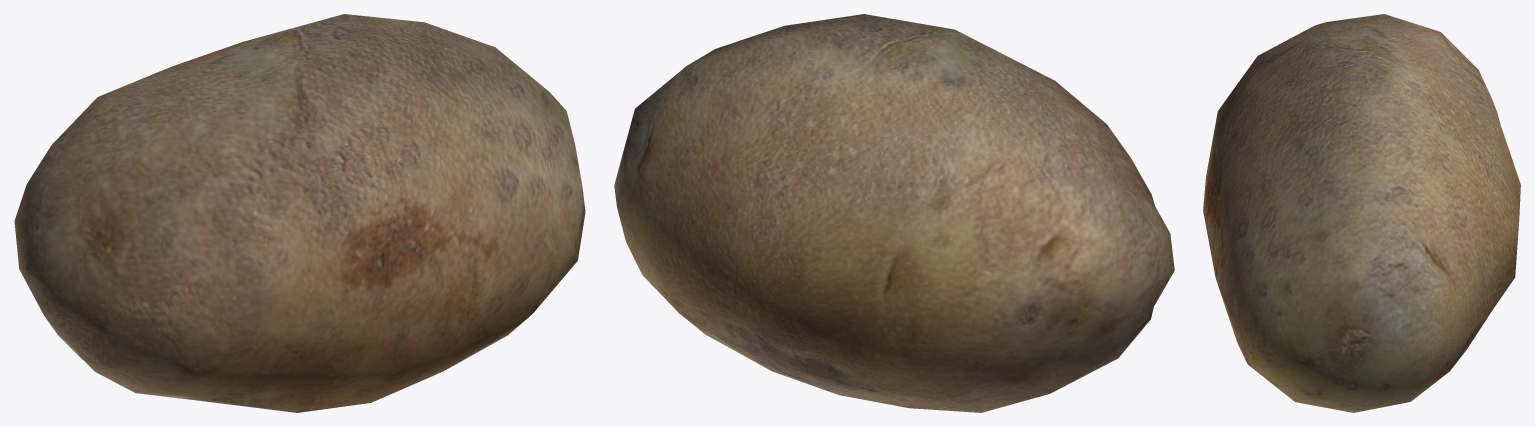
File: A23_Potato_low.fbx
The picture shows the model from 3 angles, left to right: view 1: azimuth 30°, elevation 25°; view 2: azimuth 150°, elevation 25°; view 3: azimuth 270°, elevation 25°; orthographic projection. The views are drawn at different scales.
Parts seen in each view (by area): view 1: A23_Potato_low; view 2: A23_Potato_low; view 3: A23_Potato_low.
Part boxes in pixels (<box>): A23_Potato_low: <box>14,14,585,412</box>; A23_Potato_low: <box>614,14,1174,412</box>; A23_Potato_low: <box>1203,14,1520,412</box>.
Bounding box in the file's own units: 9.33 × 5.39 × 6.01.
1 material, 1 textured.
